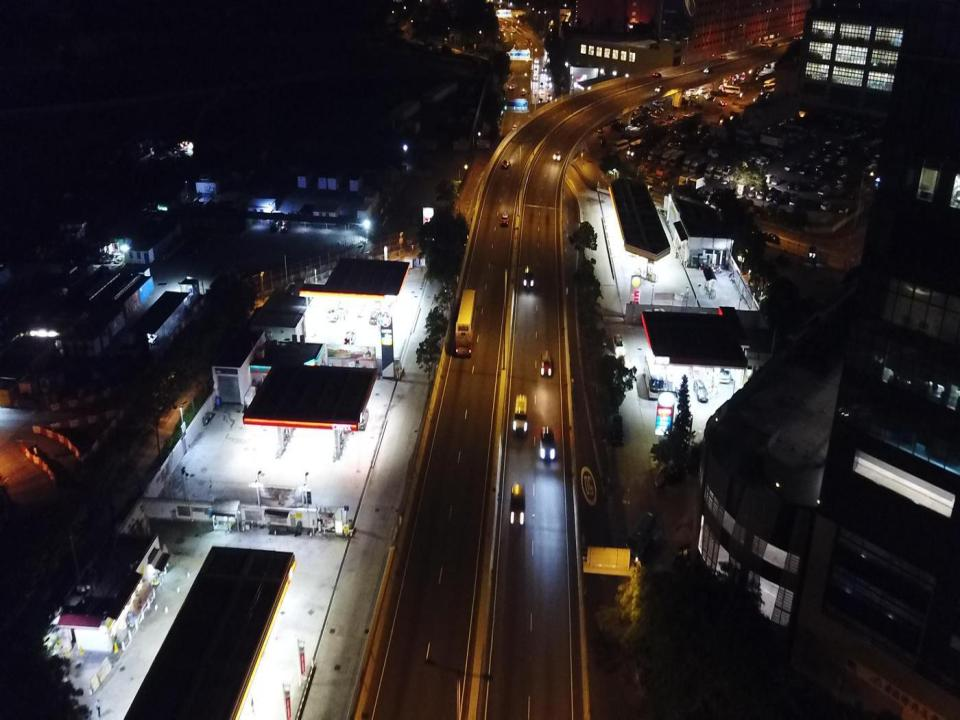bus: (620, 510, 658, 564), (456, 288, 478, 356), (642, 353, 665, 400), (714, 347, 731, 383), (643, 122, 671, 141), (629, 138, 651, 155), (682, 111, 703, 127), (665, 118, 687, 131), (762, 90, 782, 102), (762, 82, 780, 95), (764, 76, 780, 88), (722, 85, 741, 94), (495, 20, 508, 28)
car: (511, 484, 525, 527), (540, 428, 556, 462), (606, 382, 619, 413), (693, 379, 709, 403), (353, 407, 369, 430), (613, 333, 625, 357), (689, 360, 703, 379), (523, 266, 534, 290), (540, 354, 552, 376), (761, 232, 780, 244), (280, 220, 292, 233), (799, 164, 812, 176), (369, 312, 380, 324), (611, 122, 626, 130), (500, 213, 509, 226), (795, 181, 808, 190), (757, 189, 768, 199), (765, 190, 776, 200), (774, 193, 785, 203), (820, 202, 832, 211), (835, 146, 847, 154), (822, 142, 831, 152), (553, 150, 561, 161), (765, 174, 776, 182), (787, 180, 796, 189), (811, 180, 821, 188), (824, 154, 834, 162), (668, 142, 679, 149), (688, 89, 700, 95), (771, 178, 781, 185), (502, 160, 510, 168), (809, 152, 818, 158), (768, 42, 778, 47), (700, 87, 708, 93), (719, 100, 726, 106), (704, 93, 710, 100), (656, 86, 664, 91), (708, 96, 716, 101), (547, 94, 552, 101), (654, 72, 661, 77), (794, 36, 802, 40), (704, 68, 712, 72), (512, 124, 517, 130), (521, 89, 525, 96), (538, 98, 543, 103), (541, 67, 546, 72), (534, 58, 538, 64), (534, 75, 538, 80), (540, 82, 543, 88), (510, 85, 514, 89), (534, 69, 538, 73), (500, 27, 503, 32), (512, 29, 515, 33)
truck: (777, 124, 808, 142), (766, 129, 796, 146), (788, 120, 818, 137), (759, 132, 787, 150), (688, 157, 707, 174), (681, 154, 699, 171), (713, 163, 730, 180), (668, 151, 686, 166), (654, 147, 672, 161), (660, 148, 678, 162), (678, 172, 696, 186), (690, 175, 706, 190), (656, 169, 672, 182), (703, 164, 716, 178), (647, 149, 663, 160), (737, 182, 750, 195)
van: (514, 395, 528, 436), (612, 415, 624, 447), (327, 298, 342, 322), (614, 139, 629, 152), (789, 194, 802, 208), (375, 292, 385, 310), (818, 184, 830, 198), (270, 219, 282, 232), (784, 161, 796, 172), (748, 186, 761, 196), (838, 174, 850, 184), (833, 185, 845, 194), (596, 122, 603, 137), (708, 150, 719, 158), (838, 158, 848, 166), (760, 42, 768, 47), (719, 55, 727, 58)
